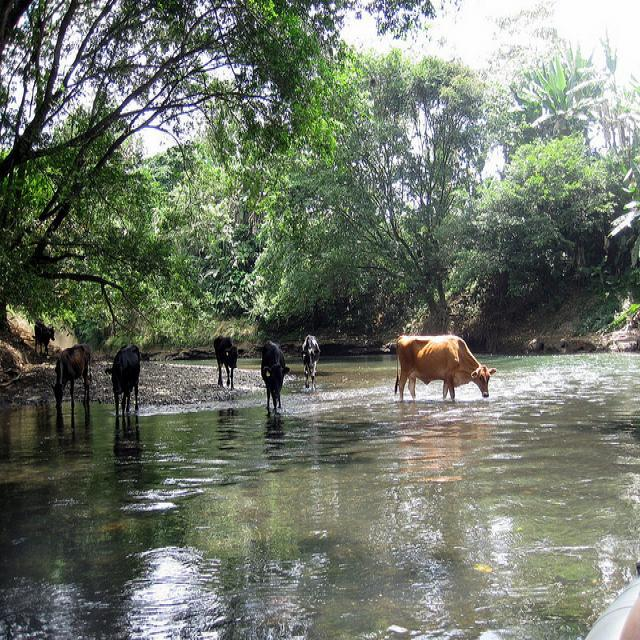cow: (390, 328, 495, 405), (49, 342, 91, 406), (104, 343, 138, 415), (260, 339, 289, 408), (212, 334, 244, 390), (301, 335, 319, 389), (33, 320, 53, 353)
